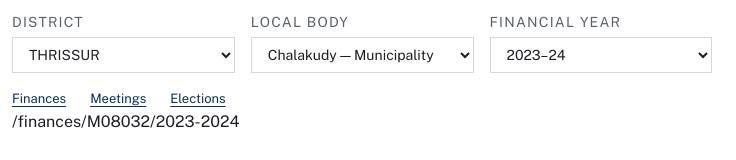
Test: BodySelector › clears the body when the district changes under it
Select "KANNUR" in the dropdown labelled "District" at x=123, y=55, box [12,37,235,73]
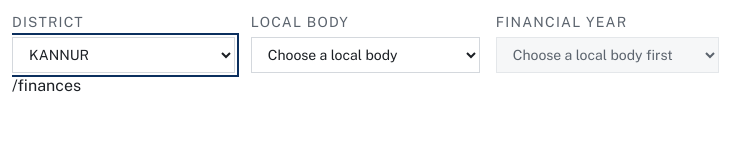
Result: the text with test id "address" reads "/finances" at [12,76,81,95]
Result: the dropdown labelled "Local body" shows "Choose a local body" at [251,37,480,73]
